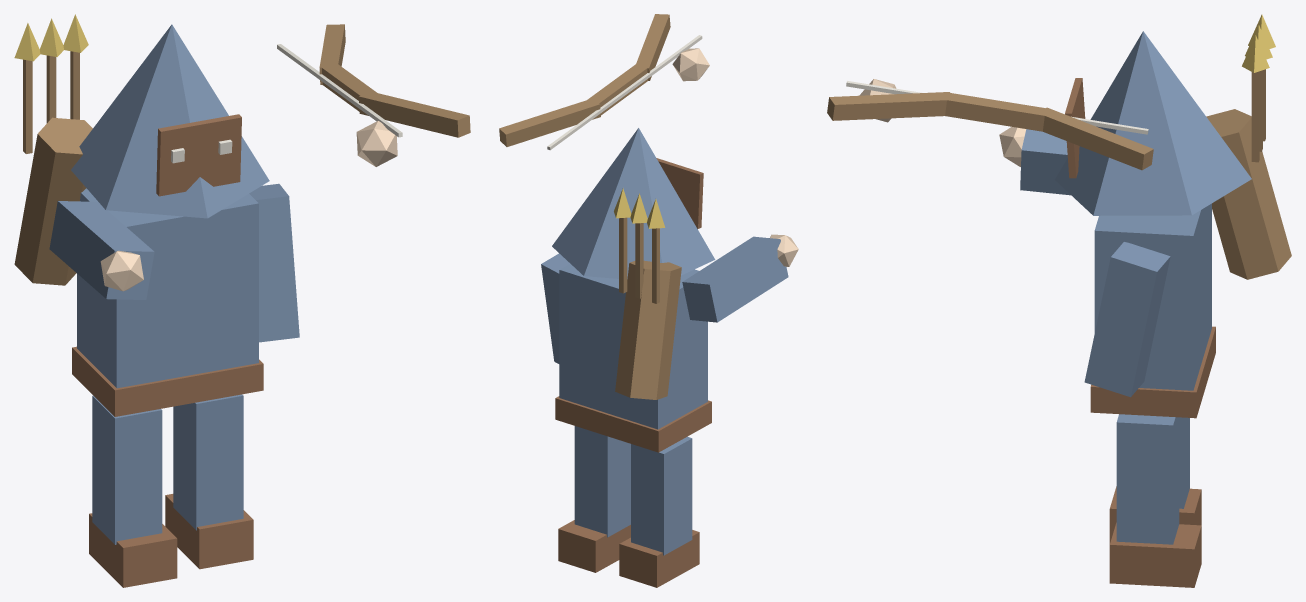
File: npcpose_archer_attack_04.glb
The picture shows the model from 3 angles, left to right: view 1: azimuth 30°, elevation 25°; view 2: azimuth 150°, elevation 25°; view 3: azimuth 270°, elevation 25°; orthographic projection. The views are drawn at different scales.
Visible parts, largest first — view 1: npcpose; view 2: npcpose; view 3: npcpose.
Boxes of the visible parts, x1,y1,x2,y2 form: npcpose: [14, 14, 470, 587]; npcpose: [499, 14, 798, 587]; npcpose: [827, 14, 1291, 587].
Bounding box in the file's own units: 0.9623 × 1.62 × 1.31.
